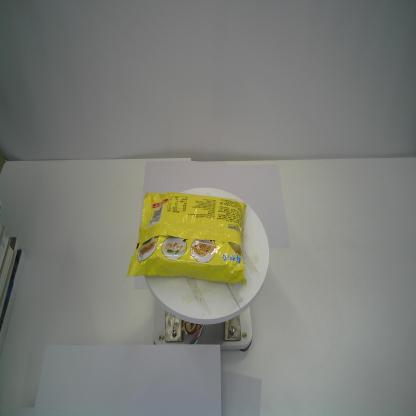Instant Noodles: (126, 192, 247, 285)
